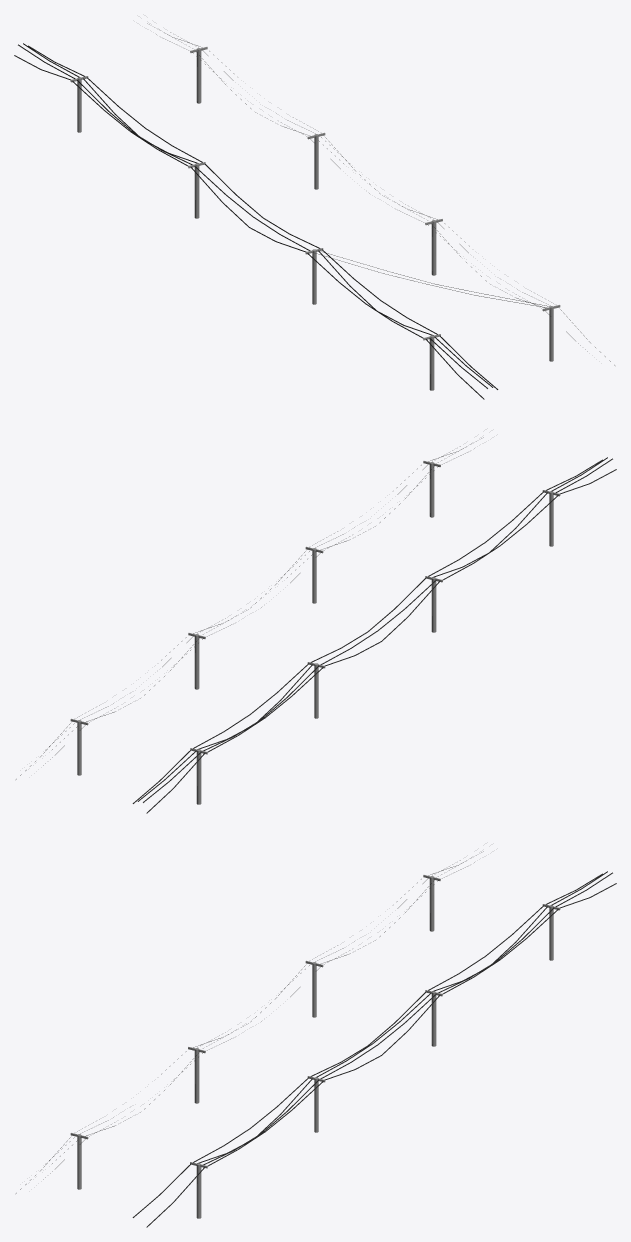
The model's file is Environment_CablePoles.fbx.
3 renders of one model, top to bottom at view 1: azimuth 30°, elevation 25°; view 2: azimuth 150°, elevation 25°; view 3: azimuth 330°, elevation 25°, orthographic.
Visible parts, largest first — view 1: Cables; view 2: Cables; view 3: Cables.
Part boxes in pixels (x1=…): Cables: x1=14, y1=23, x2=614, y2=399; Cables: x1=16, y1=437, x2=616, y2=813; Cables: x1=16, y1=851, x2=616, y2=1227.
Bounding box in the file's own units: 16.03 × 6.05 × 95.58.
1 material, 1 textured.
